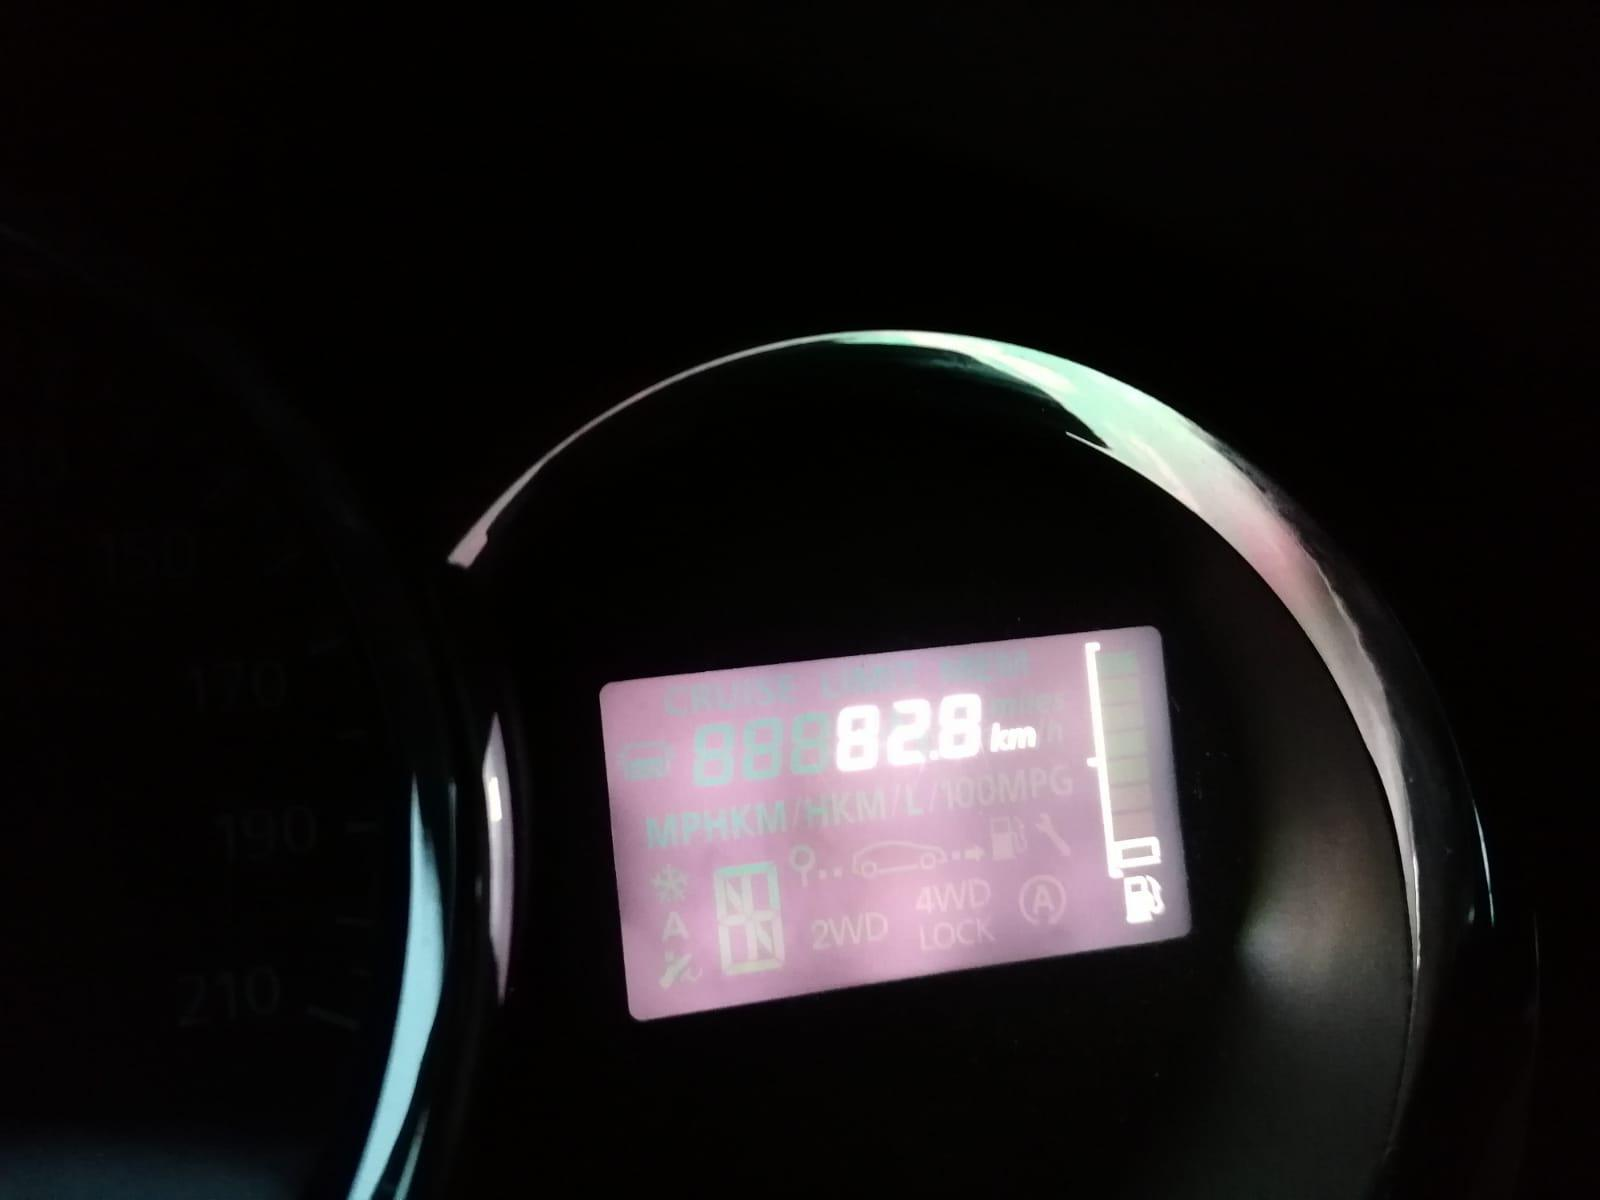,: (927, 747, 939, 763)
2: (884, 697, 932, 765)
8: (835, 703, 879, 771), (939, 693, 981, 759)
X: (1008, 726, 1037, 750), (989, 722, 1009, 753)
odometer: (595, 621, 1196, 1024)
